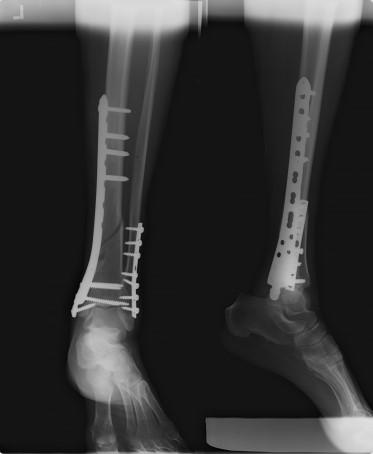fractured: (95, 217, 125, 274)
